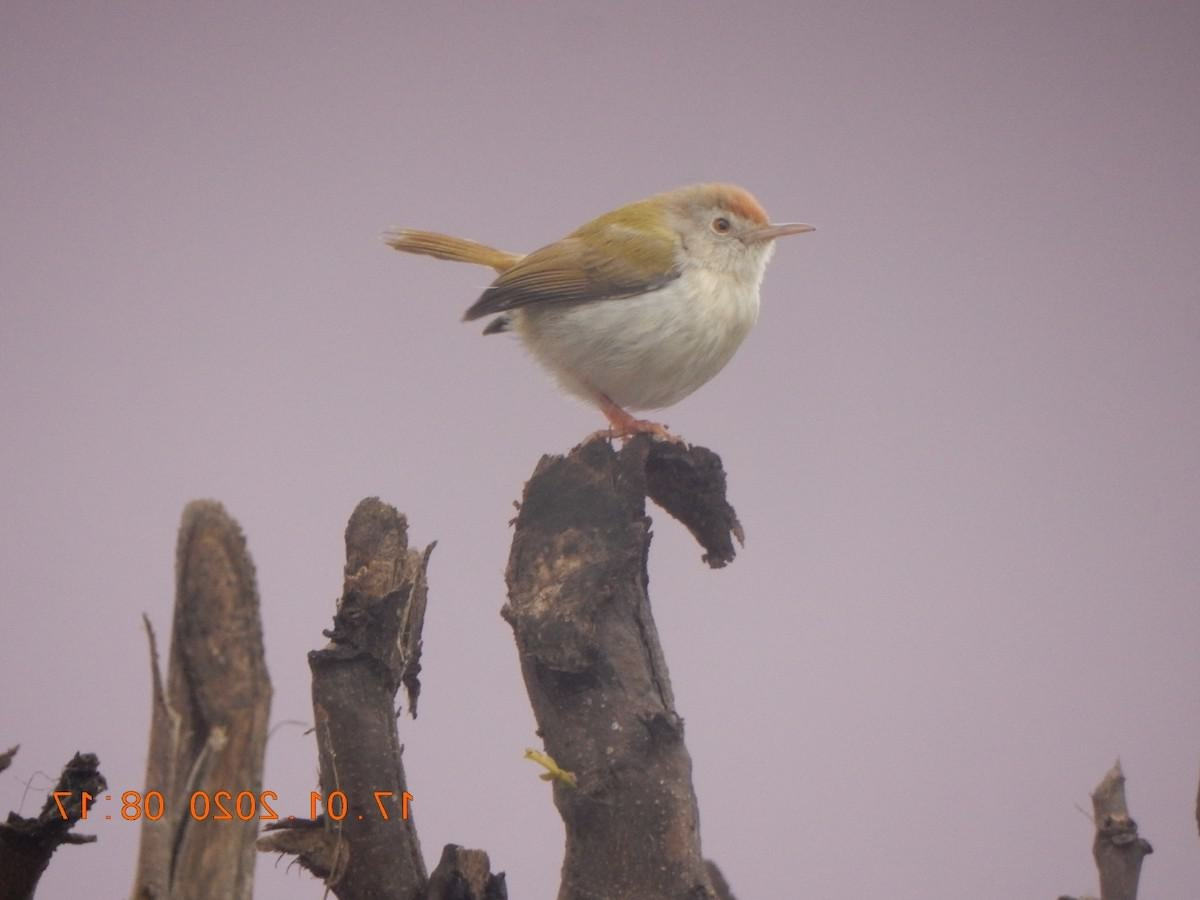tailorbird: (454, 165, 839, 500)
